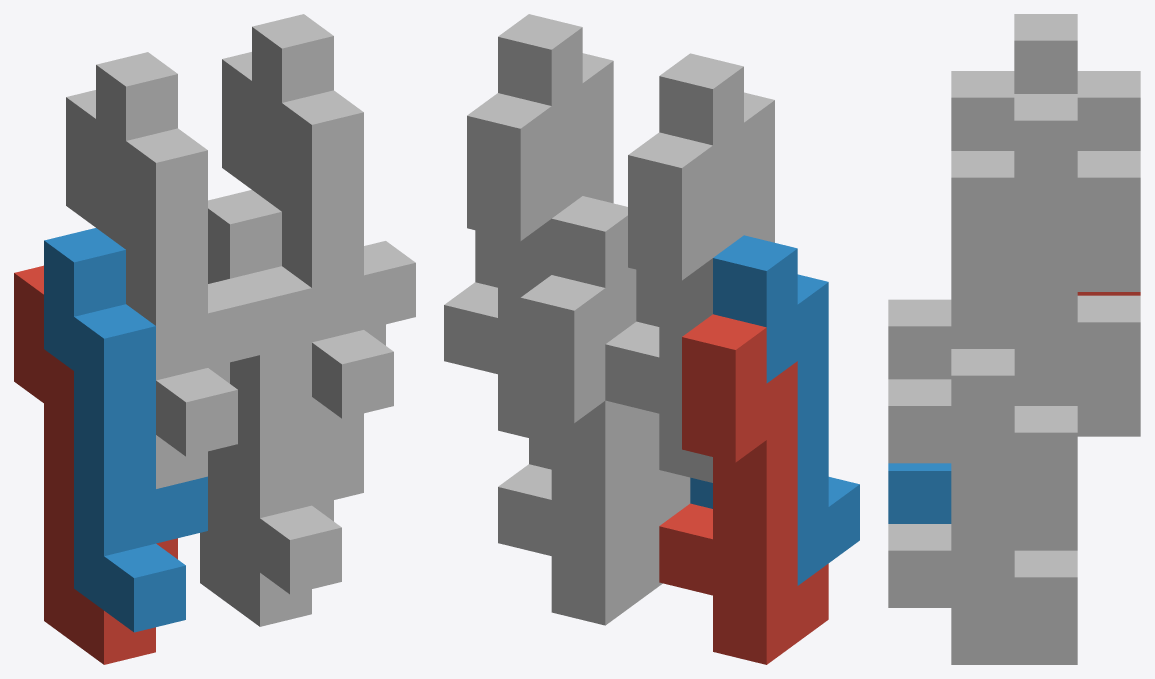
The model's file is tiling.obj.
The picture shows the model from 3 angles, left to right: view 1: azimuth 30°, elevation 25°; view 2: azimuth 150°, elevation 25°; view 3: azimuth 270°, elevation 25°; orthographic projection. The views are drawn at different scales.
Parts seen in each view (by area): view 1: copy_1_domain_2, copy_1_domain_4, copy_1_domain_8, copy_1_domain_6, copy_1_domain_1, copy_1_domain_7, copy_1_domain_3, copy_1_domain_5; view 2: copy_1_domain_1, copy_1_domain_5, copy_1_domain_7, copy_1_domain_3, copy_1_domain_2, copy_1_domain_8, copy_1_domain_4, copy_1_domain_6; view 3: copy_1_domain_8, copy_1_domain_7, copy_1_domain_5, copy_1_domain_4, copy_1_domain_6, copy_1_domain_3, copy_1_domain_2.
Boxes of the visible parts, box(x1,y1,x2,y2) form: copy_1_domain_2: box(44, 228, 207, 632); copy_1_domain_4: box(96, 52, 259, 456); copy_1_domain_8: box(252, 14, 415, 418); copy_1_domain_6: box(208, 190, 363, 594); copy_1_domain_1: box(14, 265, 177, 664); copy_1_domain_7: box(222, 52, 385, 450); copy_1_domain_3: box(66, 90, 229, 488); copy_1_domain_5: box(200, 446, 333, 626); copy_1_domain_1: box(659, 314, 828, 664); copy_1_domain_5: box(498, 275, 662, 625); copy_1_domain_7: box(444, 93, 582, 443); copy_1_domain_3: box(605, 132, 743, 482); copy_1_domain_2: box(690, 235, 859, 585); copy_1_domain_8: box(475, 14, 613, 287); copy_1_domain_4: box(636, 53, 774, 326); copy_1_domain_6: box(529, 196, 690, 546); copy_1_domain_8: box(888, 94, 1077, 463); copy_1_domain_7: box(951, 151, 1140, 520); copy_1_domain_5: box(951, 295, 1140, 664); copy_1_domain_4: box(888, 14, 1077, 379); copy_1_domain_6: box(888, 520, 1014, 607); copy_1_domain_3: box(1077, 71, 1140, 150); copy_1_domain_2: box(888, 463, 951, 523).
Size of the model in its own units: 6 by 10 by 4.
